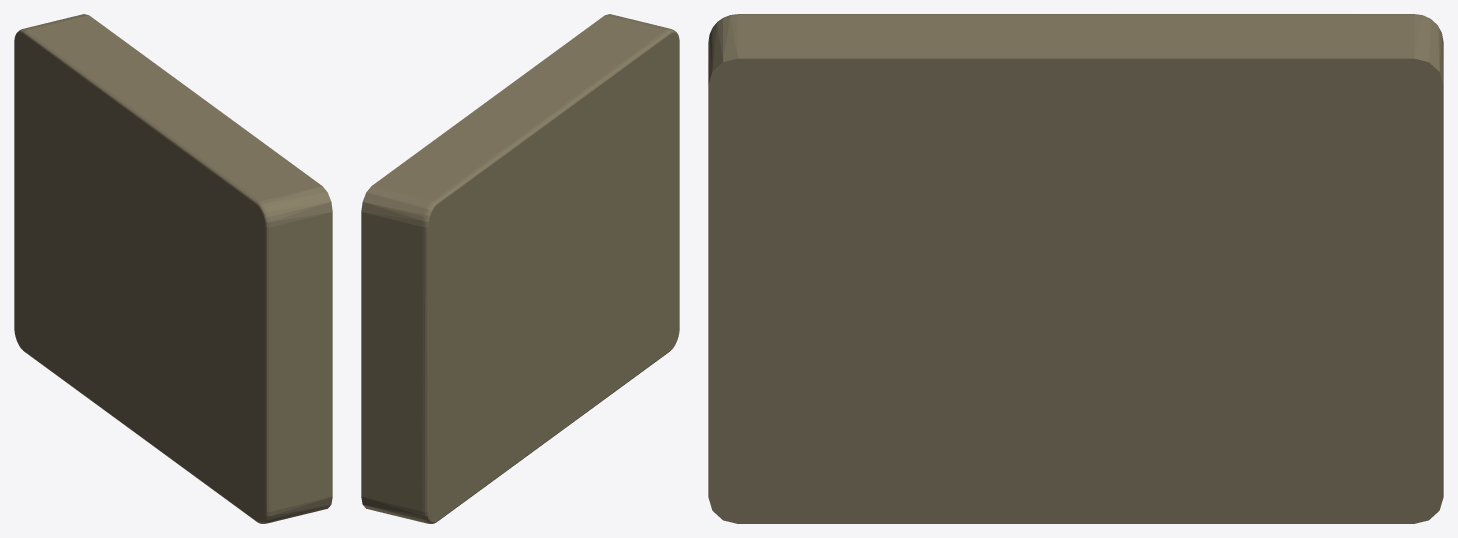
Rendered from SSD_15mm.glb.
3 views of the same model, side by side, from view 1: azimuth 30°, elevation 25°; view 2: azimuth 150°, elevation 25°; view 3: azimuth 270°, elevation 25° (orthographic). The views are drawn at different scales.
Parts seen in each view (by area): view 1: HL15 Beast REV1 - F8X_ROW_1_DRIVE_CAGE_ASSEMBLY _1_-1 SSD_B.; view 2: HL15 Beast REV1 - F8X_ROW_1_DRIVE_CAGE_ASSEMBLY _1_-1 SSD_B.; view 3: HL15 Beast REV1 - F8X_ROW_1_DRIVE_CAGE_ASSEMBLY _1_-1 SSD_B..
Part boxes in pixels (bbox=[...]): HL15 Beast REV1 - F8X_ROW_1_DRIVE_CAGE_ASSEMBLY _1_-1 SSD_B.: bbox=[14, 14, 332, 523]; HL15 Beast REV1 - F8X_ROW_1_DRIVE_CAGE_ASSEMBLY _1_-1 SSD_B.: bbox=[361, 14, 679, 523]; HL15 Beast REV1 - F8X_ROW_1_DRIVE_CAGE_ASSEMBLY _1_-1 SSD_B.: bbox=[708, 14, 1443, 523].
Size of the model in its own units: 0.015 by 0.0699 by 0.1.
